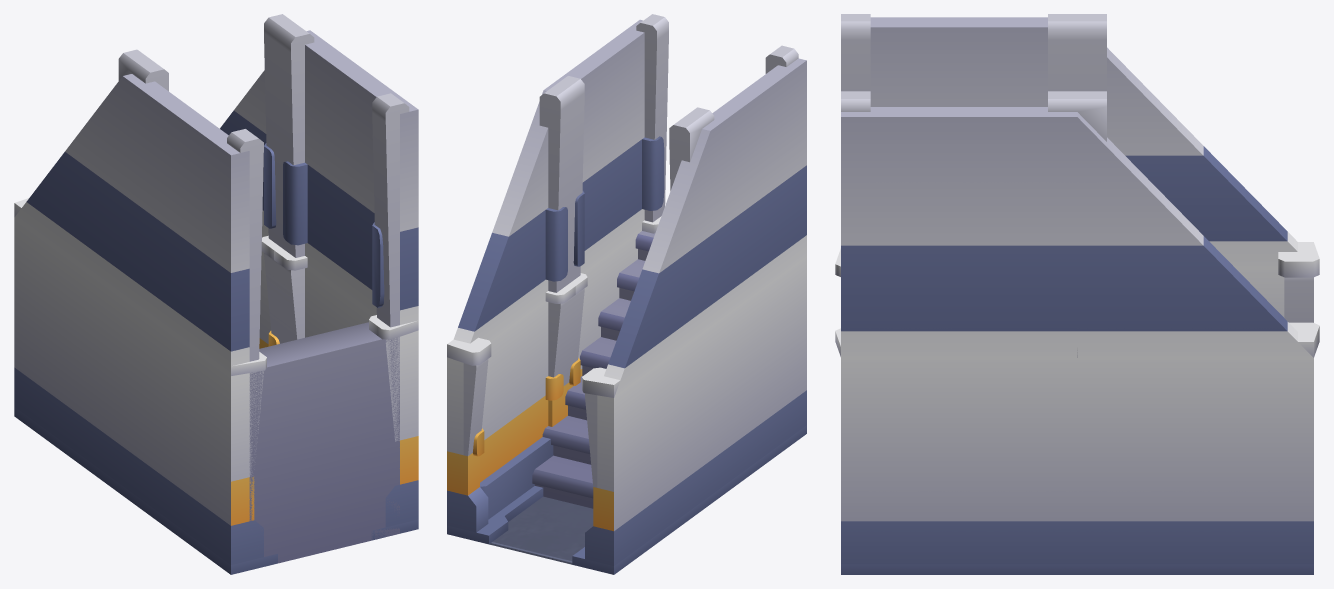
File: kenney-space-stairs.glb
The picture shows the model from 3 angles, left to right: view 1: azimuth 30°, elevation 25°; view 2: azimuth 150°, elevation 25°; view 3: azimuth 270°, elevation 25°; orthographic projection. The views are drawn at different scales.
Parts seen in each view (by area): view 1: stairs; view 2: stairs; view 3: stairs.
Part boxes in pixels (x1,y1,x2,y2): stairs: [14, 14, 418, 574]; stairs: [447, 14, 806, 574]; stairs: [835, 14, 1319, 574].
Bounding box in the file's own units: 3 × 6.56 × 6.15.
1 material, 1 textured.
